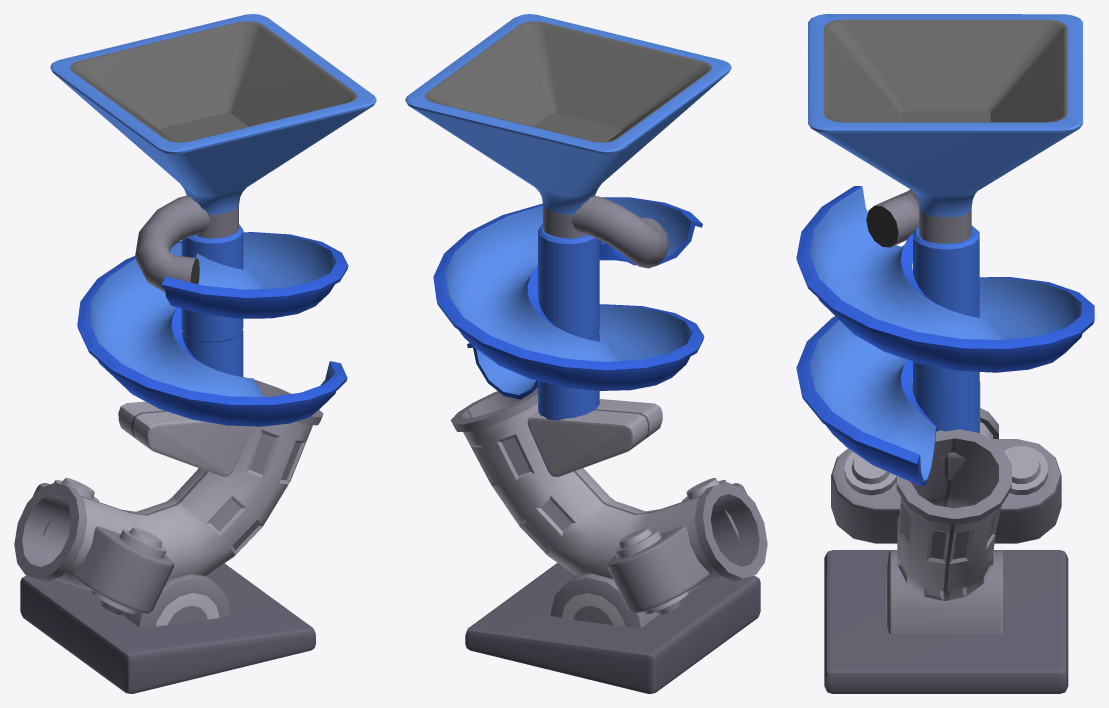
File: Ball_Throwing_Machine_2.fbx
3 renders of one model, left to right at view 1: azimuth 30°, elevation 25°; view 2: azimuth 150°, elevation 25°; view 3: azimuth 270°, elevation 25°, orthographic. The views are drawn at different scales.
Visible parts, largest first — view 1: Ball_Throwing_Machine_02, Ball_Box_02, PIpe; view 2: Ball_Throwing_Machine_02, Ball_Box_02, PIpe; view 3: Ball_Throwing_Machine_02, Ball_Box_02, PIpe.
Part boxes in pixels (x1,y1,x2,y2): Ball_Throwing_Machine_02: [14, 224, 348, 693]; Ball_Box_02: [50, 14, 376, 238]; PIpe: [135, 195, 210, 292]; Ball_Throwing_Machine_02: [433, 197, 767, 693]; Ball_Box_02: [405, 14, 731, 238]; PIpe: [571, 195, 669, 268]; Ball_Throwing_Machine_02: [796, 186, 1094, 693]; Ball_Box_02: [808, 14, 1082, 243]; PIpe: [866, 189, 919, 247].
Size of the model in its own units: 2.46 by 4.2 by 1.89.
